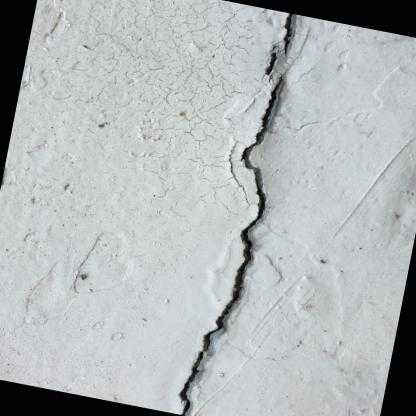crack: (179, 76, 283, 416), (282, 11, 295, 52), (263, 50, 279, 73)
